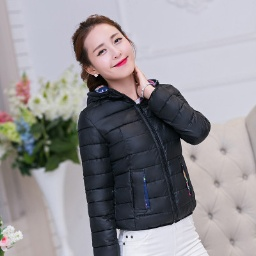face: (67, 12, 151, 97)
